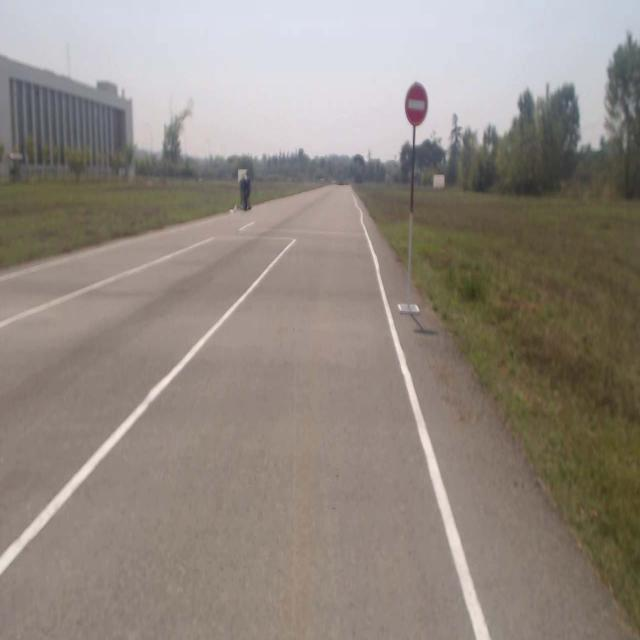girisyok: (407, 81, 428, 125)
